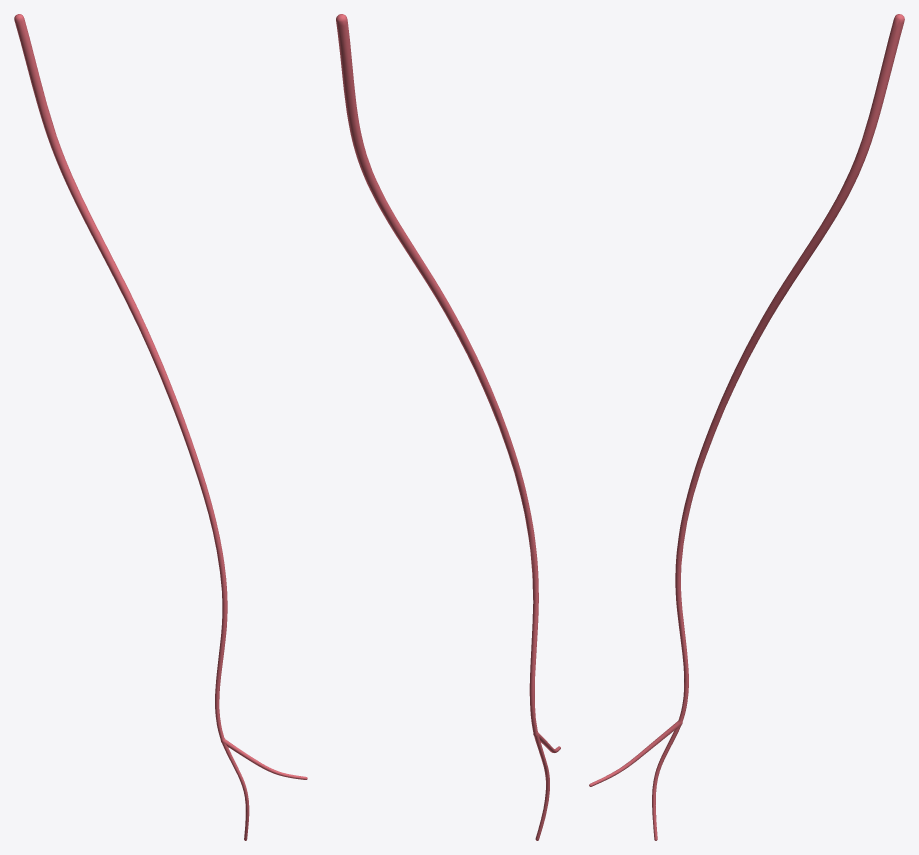
File: fma22675_fj1938.glb
The picture shows the model from 3 angles, left to right: view 1: azimuth 90°, elevation 25°; view 2: azimuth 150°, elevation 25°; view 3: azimuth 270°, elevation 25°; orthographic projection. The views are drawn at different scales.
Visible parts, largest first — view 1: FMA22675_FJ1938; view 2: FMA22675_FJ1938; view 3: FMA22675_FJ1938.
Part boxes in pixels (box(x1,y1,x2,y2)): FMA22675_FJ1938: box(14, 14, 307, 840); FMA22675_FJ1938: box(336, 14, 560, 840); FMA22675_FJ1938: box(589, 14, 904, 840).
Bounding box in the file's own units: 0.022 × 0.213 × 0.0711.
